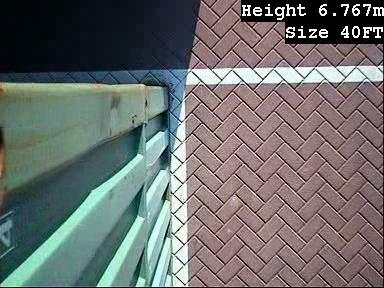groundmarker_2: (191, 41, 225, 82), (197, 217, 231, 258)
